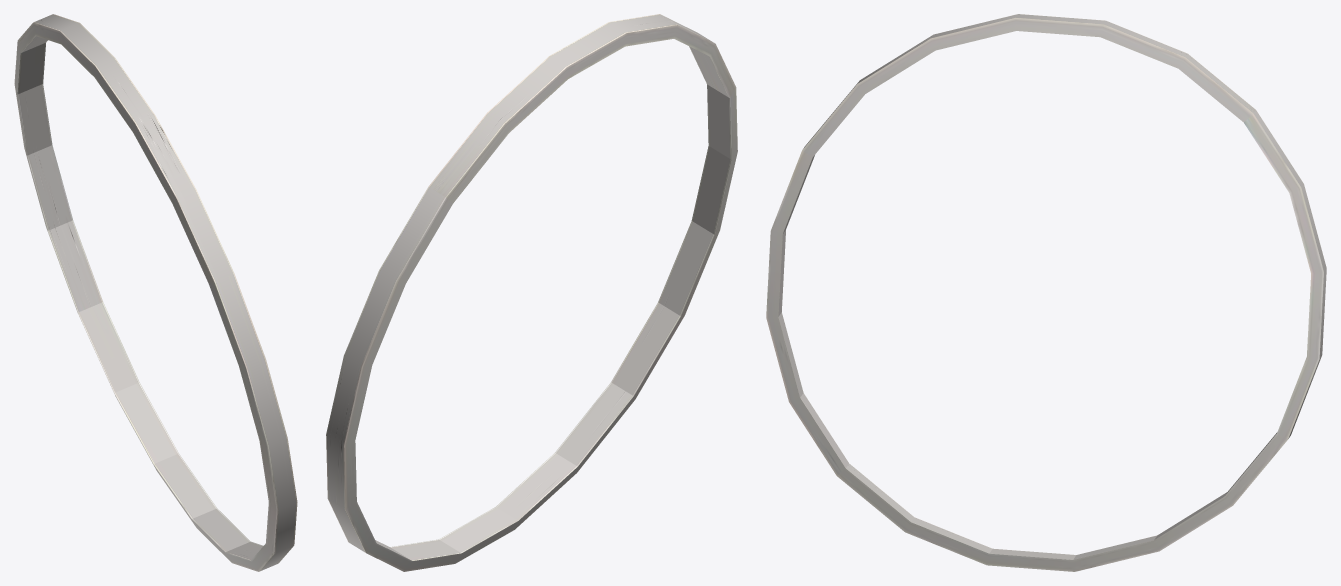
Rendered from small_InnerRing003CelestialPrism_lowPoly.glb.
3 views of the same model, side by side, from view 1: azimuth 30°, elevation 25°; view 2: azimuth 150°, elevation 25°; view 3: azimuth 270°, elevation 25° (orthographic). The views are drawn at different scales.
Parts seen in each view (by area): view 1: polySurface8; view 2: polySurface8; view 3: polySurface8.
Boxes of the visible parts, box(x1,y1,x2,y2) form: polySurface8: box(14, 14, 297, 571); polySurface8: box(326, 14, 737, 571); polySurface8: box(766, 14, 1326, 571).
Bounding box in the file's own units: 0.2048 × 0.6377 × 0.6518.
1 material, 1 textured.
